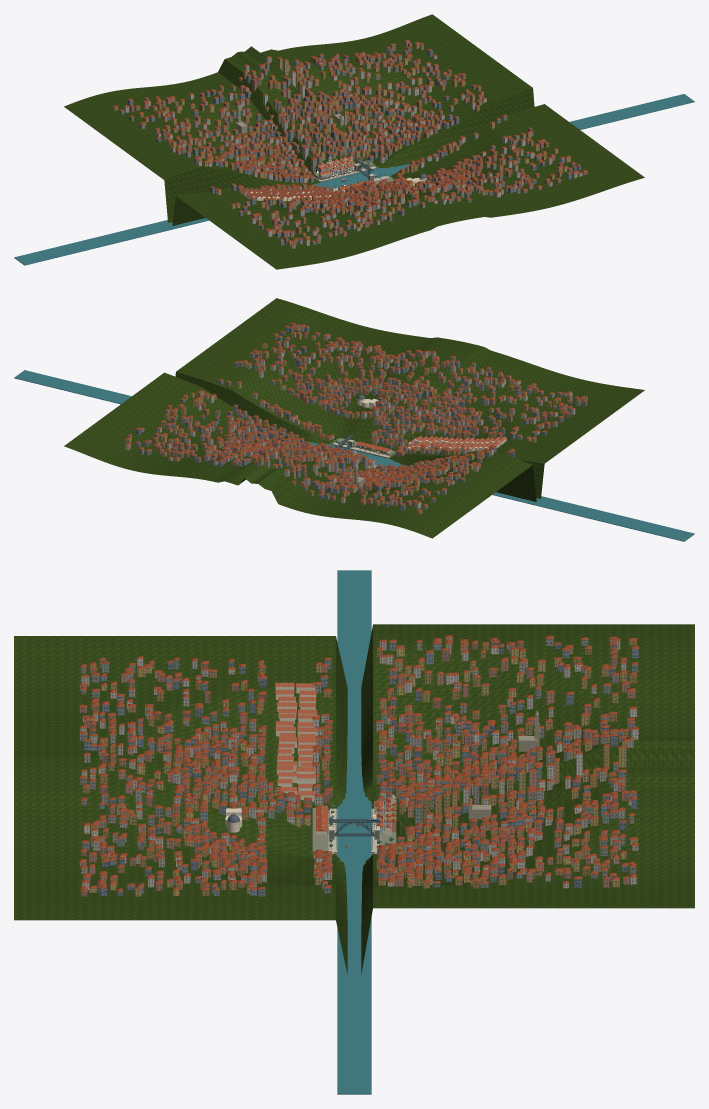
Rendered from porto-reference.glb.
The picture shows the model from 3 angles, top to bottom: view 1: azimuth 30°, elevation 25°; view 2: azimuth 150°, elevation 25°; view 3: azimuth 270°, elevation 25°; orthographic projection. The views are drawn at different scales.
Parts seen in each view (by area): view 1: Envolvente, Porto_arquitetura_Douro agua, Porto_arquitetura_nucleo; view 2: Envolvente, Porto_arquitetura_Douro agua, Porto_arquitetura_nucleo; view 3: Envolvente, Porto_arquitetura_Douro agua, Porto_arquitetura_nucleo.
Boxes of the visible parts, x1=… form: Envolvente: x1=64, y1=14, x2=644, y2=269; Porto_arquitetura_Douro agua: x1=14, y1=94, x2=694, y2=265; Porto_arquitetura_nucleo: x1=313, y1=155, x2=393, y2=191; Envolvente: x1=64, y1=298, x2=644, y2=538; Porto_arquitetura_Douro agua: x1=14, y1=370, x2=694, y2=541; Porto_arquitetura_nucleo: x1=332, y1=435, x2=395, y2=468; Envolvente: x1=14, y1=624, x2=694, y2=974; Porto_arquitetura_Douro agua: x1=337, y1=570, x2=371, y2=1094; Porto_arquitetura_nucleo: x1=312, y1=793, x2=397, y2=855.
Bounding box in the file's own units: 800 × 71.23 × 440.
49 materials, 32 textured.
